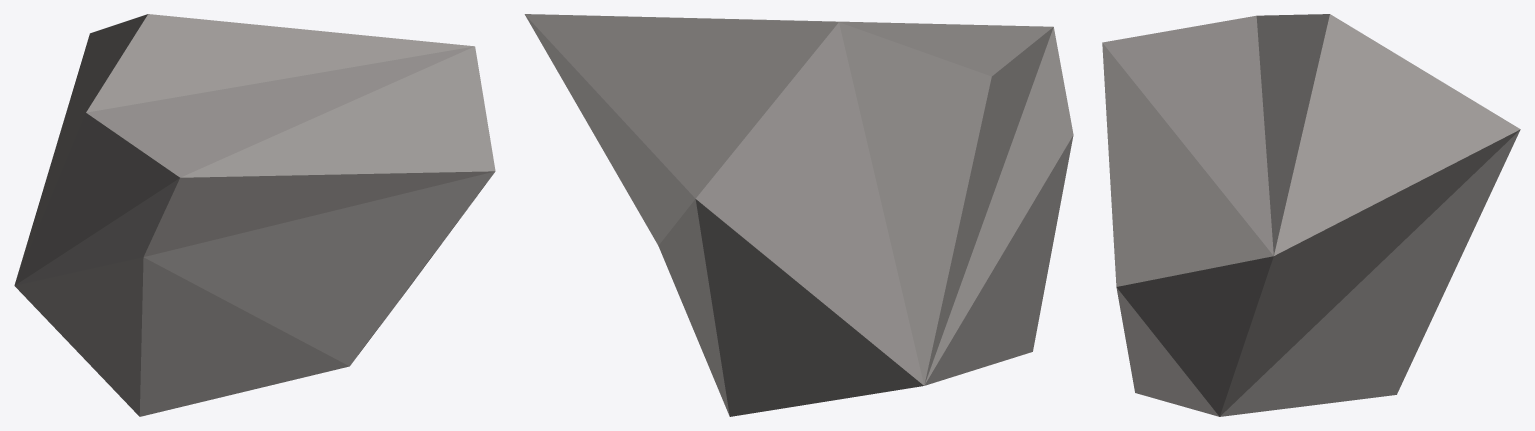
File: rock4.fbx
3 views of the same model, side by side, from view 1: azimuth 30°, elevation 25°; view 2: azimuth 150°, elevation 25°; view 3: azimuth 270°, elevation 25° (orthographic). The views are drawn at different scales.
Parts seen in each view (by area): view 1: Cube.004; view 2: Cube.004; view 3: Cube.004.
Boxes of the visible parts, x1,y1,x2,y2 form: Cube.004: (14, 14, 495, 416); Cube.004: (524, 14, 1073, 416); Cube.004: (1102, 14, 1520, 416).
Bounding box in the file's own units: 498 × 394 × 428.
